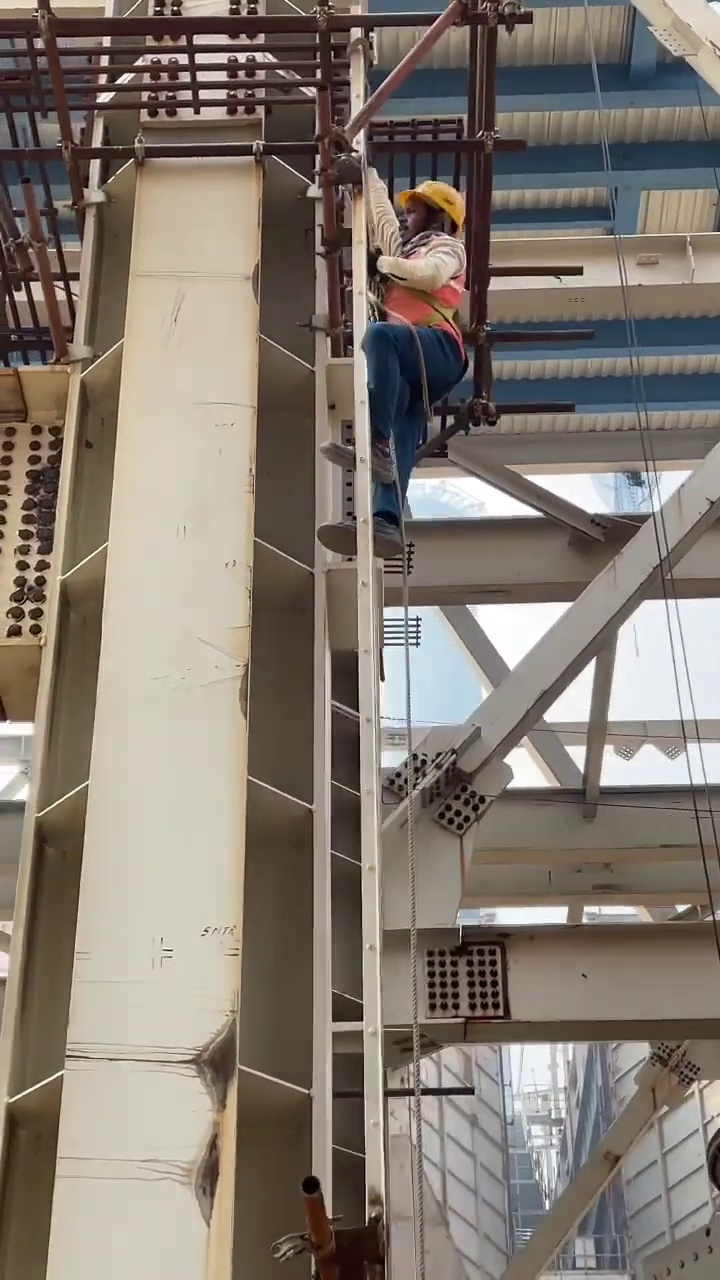Helmet: (401, 176, 468, 223)
Person: (309, 175, 475, 564)
Safety_Harness: (386, 274, 465, 394)
Safety_shoes: (315, 515, 401, 562), (323, 431, 395, 483)
